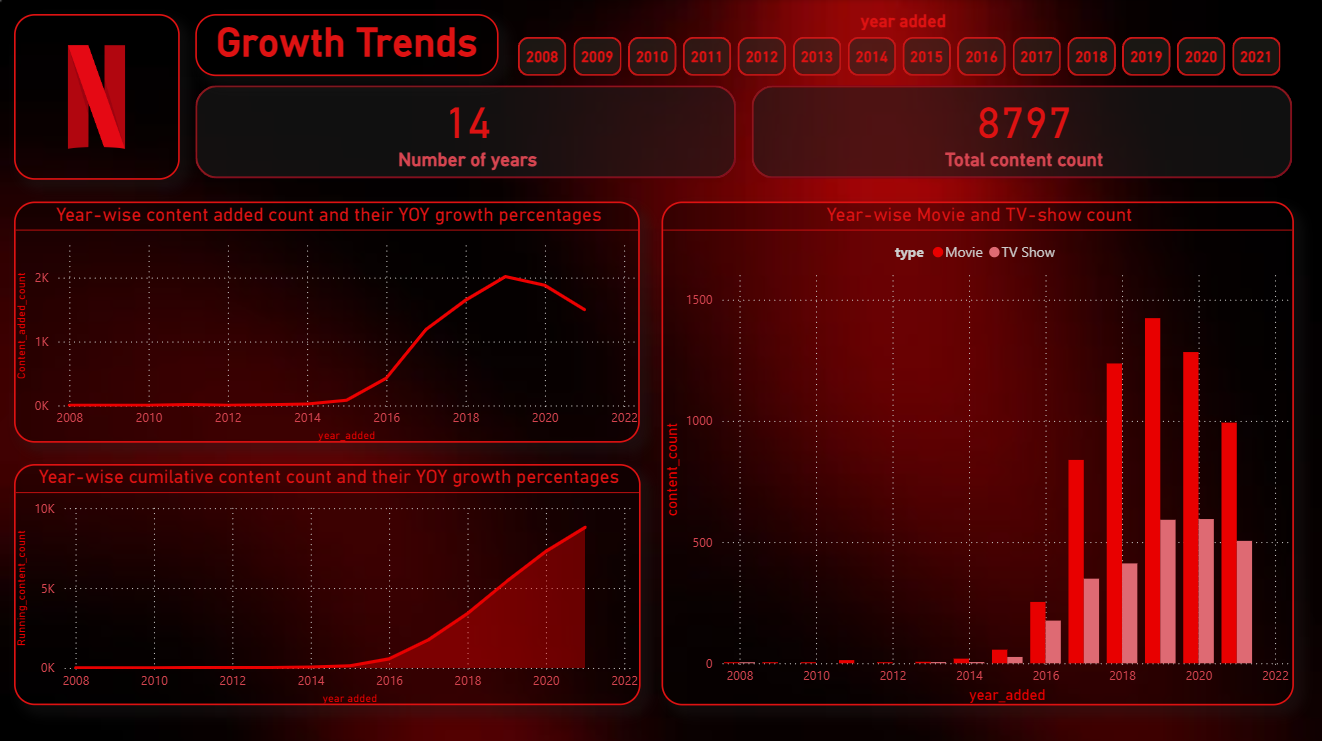

The page's visual inventory and layout, read from the dashboard file:
{"tool":"powerbi","page":{"name":"Growth Trends","canvas":[1280,720],"ordinal":2},"visuals":[{"type":"image","box":[14.3,14.3,160,160],"z":0},{"type":"cardVisual","fields":{"Data":["Count(2_yearly_content_type_distribution(Bonus).year_added)","Sum(2_yearly_content_type_distribution(Bonus).content_count)"]},"box":[189.4,83.2,1060.5,90.5],"z":1000},{"type":"lineChart","title":"Year-wise content added count and their YOY growth percentages","fields":{"Y":["Sum(2_growth_YOY(3).content_added_count)"],"Category":["2_growth_YOY(3).year_added"]},"box":[14.3,195.7,604.3,232.9],"z":2000},{"type":"shape","box":[189.4,14.5,293.2,60.3],"z":3000},{"type":"textbox","box":[189.4,14.5,293.2,60.3],"z":4000},{"type":"advancedSlicerVisual","title":"year added","fields":{"Values":["2_yearly_content_type_distribution(Bonus).year_added"]},"box":[495.8,10.9,754,68.8],"z":5000},{"type":"areaChart","title":"Year-wise cumilative content count and their YOY growth percentages","fields":{"Y":["Sum(2_cumilative_content(4).running_content_count)"],"Category":["2_cumilative_content(4).year_added"]},"box":[14.5,448.8,604.4,232.8],"z":6000},{"type":"clusteredColumnChart","title":"Year-wise Movie and TV-show count","fields":{"Category":["2_yearly_content_type_distribution(Bonus).year_added"],"Y":["Sum(2_yearly_content_type_distribution(Bonus).content_count)"],"Series":["2_yearly_content_type_distribution(Bonus).type"]},"box":[639.4,195.4,610.5,486.2],"z":7000}]}

Visuals, with their boxes in screenshot pixels (x1, y1, x2, y2), scaled from the page's 1280x720 canvas onto the 1322x741 screenshot:
image: {"x1": 15, "y1": 15, "x2": 180, "y2": 179}
cardVisual - Count(2_yearly_content_type_distribution(Bonus).year_added) x Sum(2_yearly_content_type_distribution(Bonus).content_count): {"x1": 196, "y1": 86, "x2": 1291, "y2": 179}
"Year-wise content added count and their YOY growth percentages" lineChart: {"x1": 15, "y1": 201, "x2": 639, "y2": 441}
shape: {"x1": 196, "y1": 15, "x2": 498, "y2": 77}
textbox: {"x1": 196, "y1": 15, "x2": 498, "y2": 77}
"year added" advancedSlicerVisual: {"x1": 512, "y1": 11, "x2": 1291, "y2": 82}
"Year-wise cumilative content count and their YOY growth percentages" areaChart: {"x1": 15, "y1": 462, "x2": 639, "y2": 701}
"Year-wise Movie and TV-show count" clusteredColumnChart: {"x1": 660, "y1": 201, "x2": 1291, "y2": 701}
